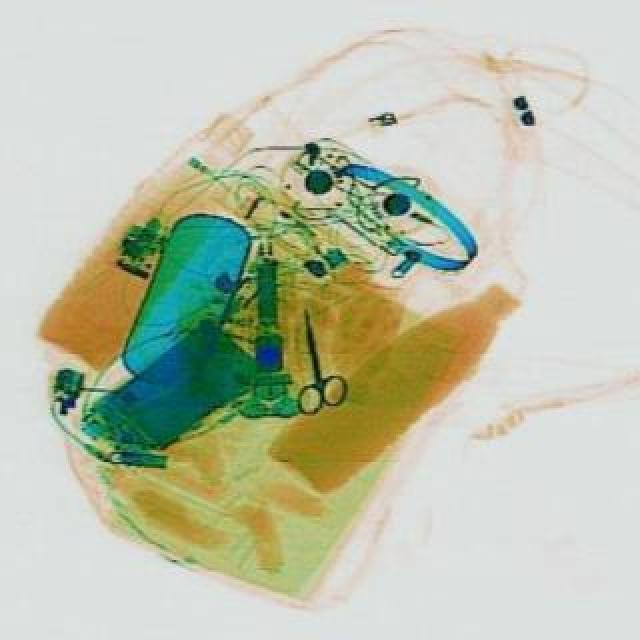pliers: (284, 304, 354, 414)
